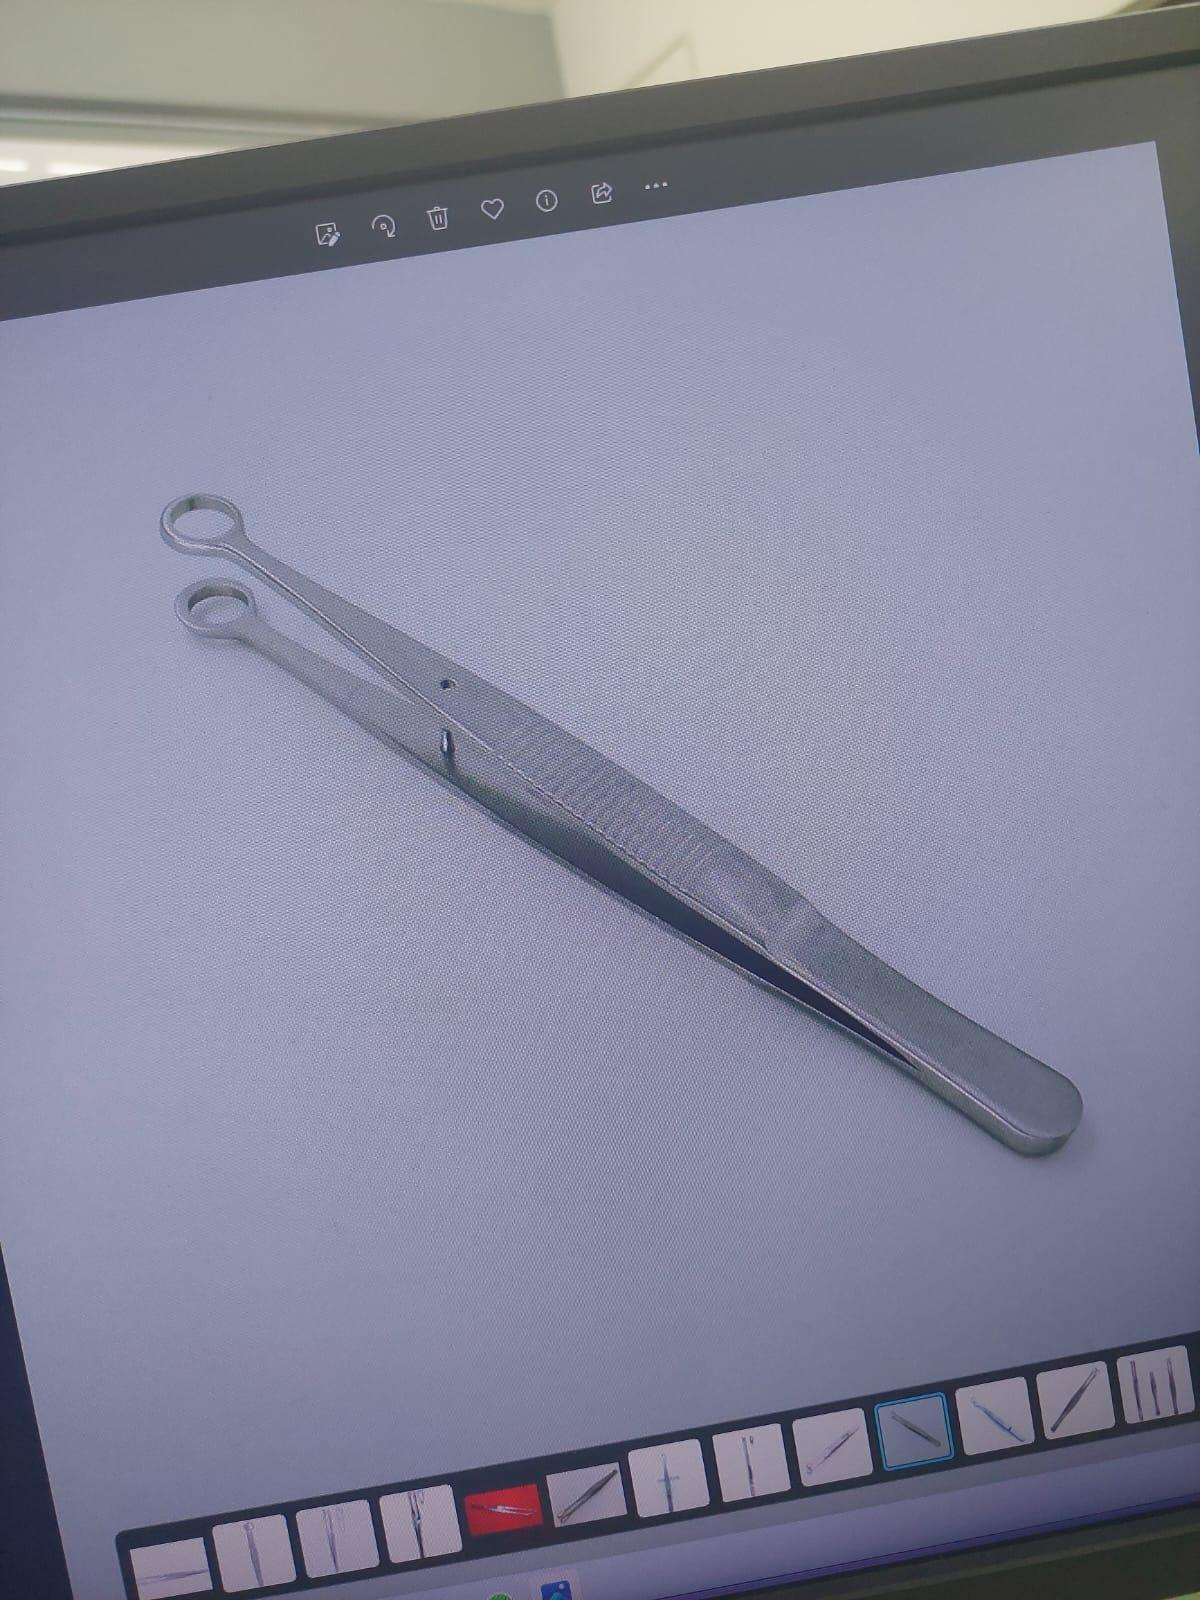Eye Intestinal Forceps: (153, 467, 1123, 1188)
